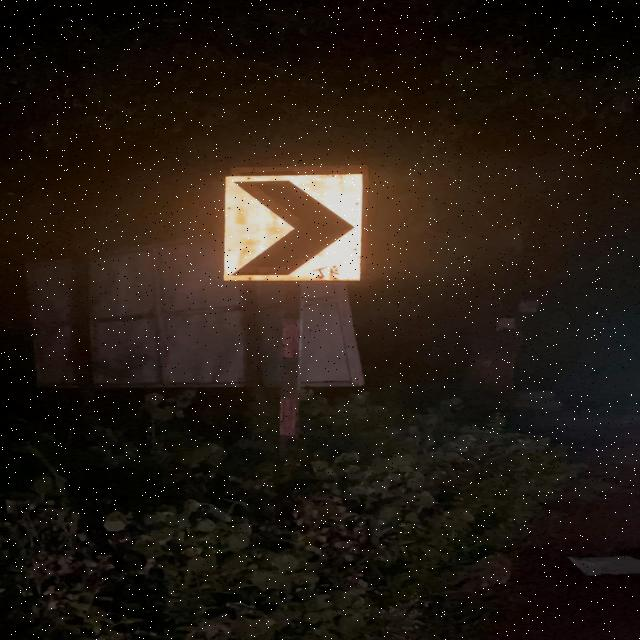chevron_right: (220, 174, 360, 282)
